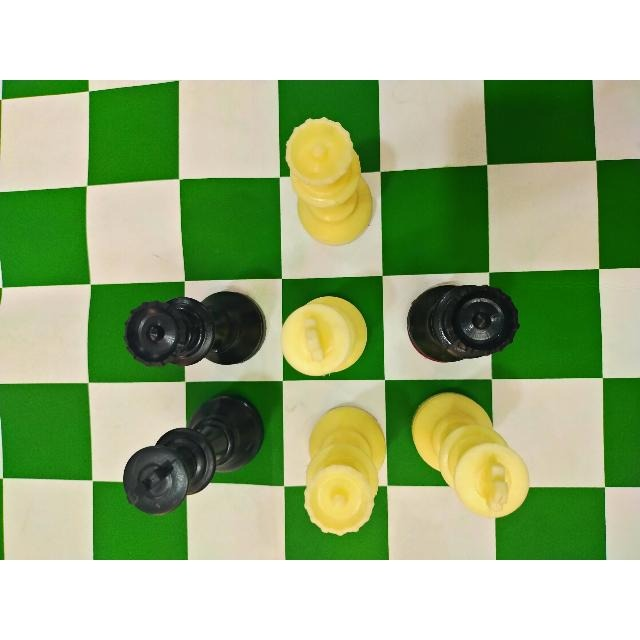black-king: (121, 389, 266, 517)
black-queen: (124, 291, 268, 369), (405, 284, 522, 364)
white-king: (407, 386, 530, 526), (279, 291, 372, 379)
white-queen: (284, 114, 375, 247), (304, 404, 388, 539)
